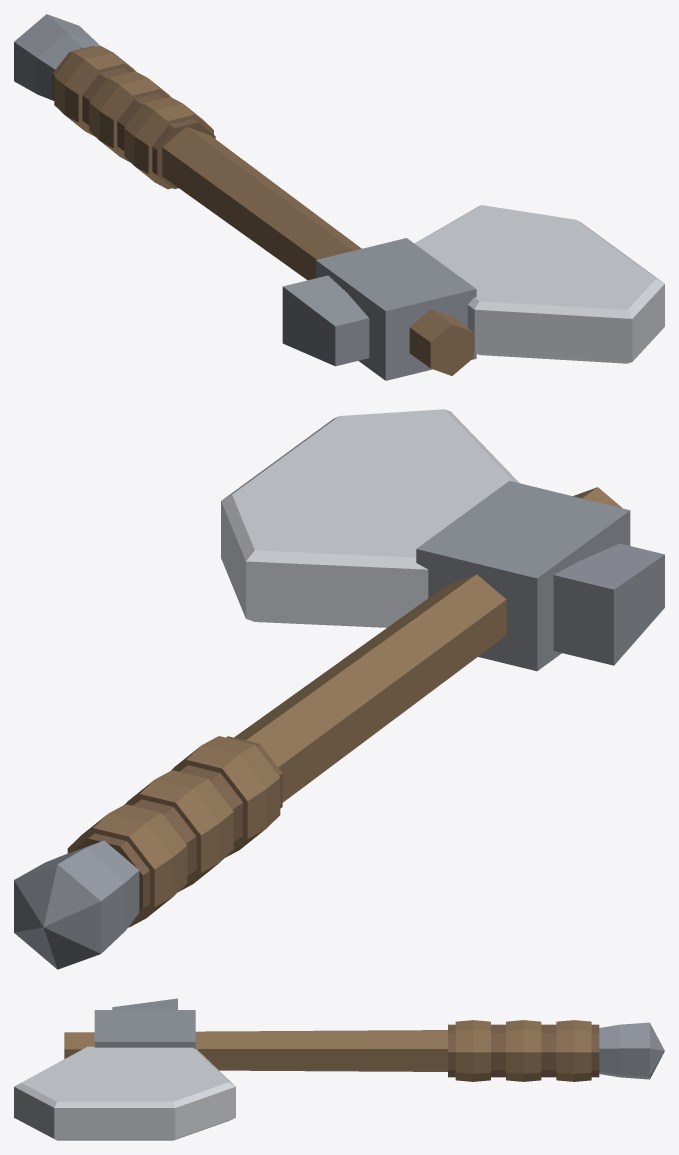
The model's file is handaxe.glb.
The picture shows the model from 3 angles, top to bottom: view 1: azimuth 30°, elevation 25°; view 2: azimuth 150°, elevation 25°; view 3: azimuth 270°, elevation 25°; orthographic projection. The views are drawn at different scales.
Visible parts, largest first — view 1: handaxe; view 2: handaxe; view 3: handaxe.
Boxes of the visible parts, bbox=[...] form: handaxe: bbox=[14, 14, 664, 380]; handaxe: bbox=[14, 409, 664, 969]; handaxe: bbox=[14, 998, 664, 1140].
Bounding box in the file's own units: 0.245 × 0.0624 × 0.645.
